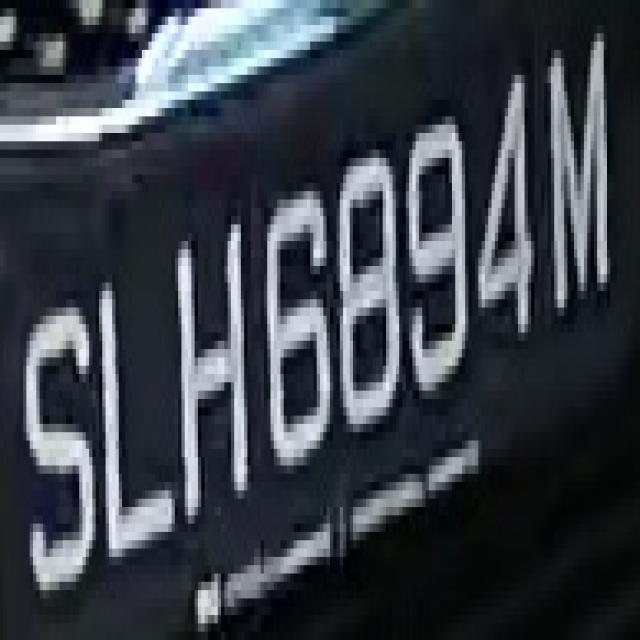4: (465, 33, 548, 374)
6: (260, 183, 336, 499)
8: (323, 116, 406, 458)
9: (399, 83, 478, 407)
H: (172, 191, 260, 524)
L: (92, 274, 178, 565)
M: (538, 41, 624, 332)
S: (13, 266, 99, 607)
